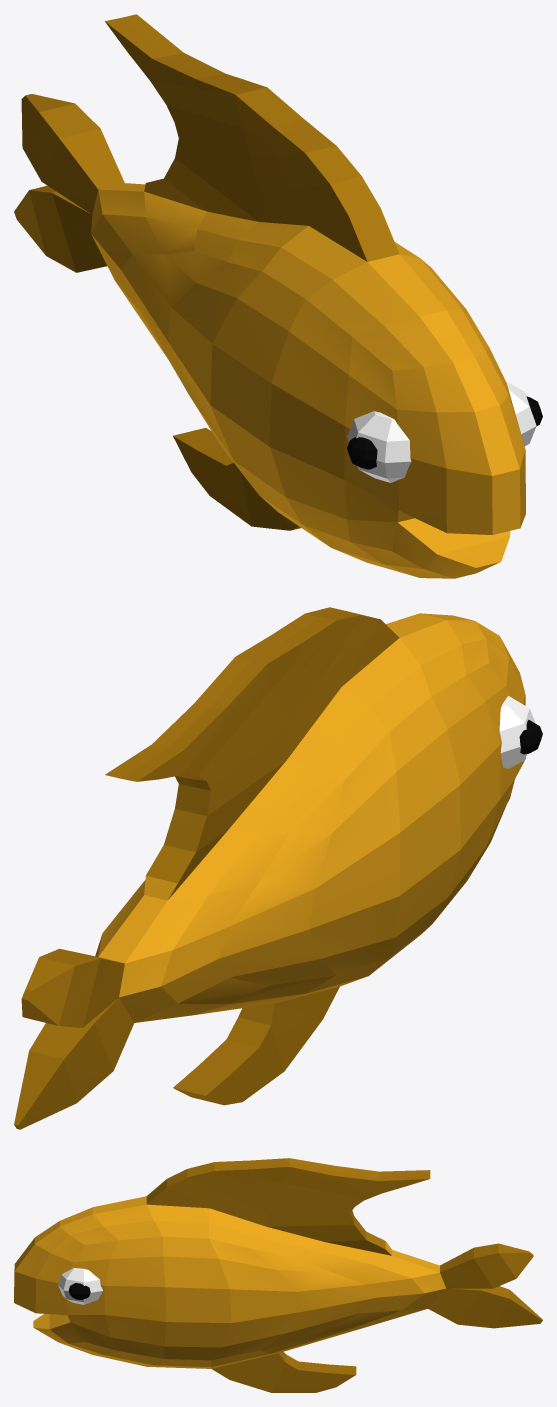
Rendered from Fish_2.fbx.
3 views of the same model, one above another, from view 1: azimuth 30°, elevation 25°; view 2: azimuth 150°, elevation 25°; view 3: azimuth 270°, elevation 25° (orthographic). The views are drawn at different scales.
Visible parts, largest first — view 1: Fish_2; view 2: Fish_2; view 3: Fish_2.
Boxes of the visible parts, left/top/right/bottom form: Fish_2: left=14, top=14, right=542, bottom=578; Fish_2: left=14, top=607, right=542, bottom=1129; Fish_2: left=14, top=1158, right=542, bottom=1392.
Size of the model in its own units: 10.54 by 22.09 by 46.81.
